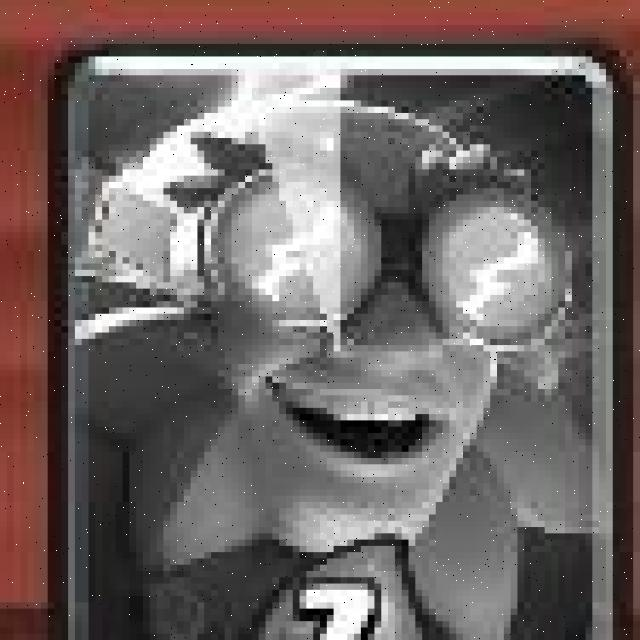Electro_Giant: (47, 41, 632, 640)
